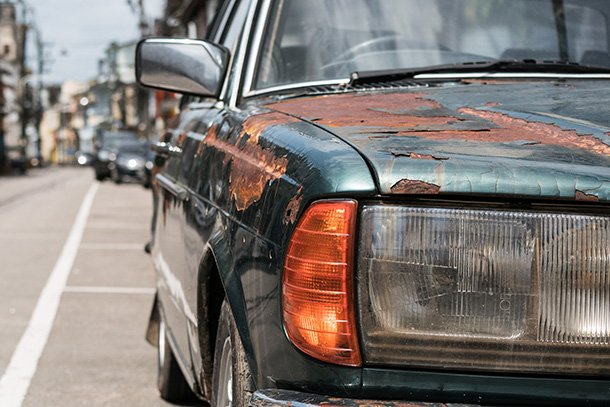rust: (276, 100, 475, 133), (221, 137, 283, 200), (505, 122, 594, 150)
